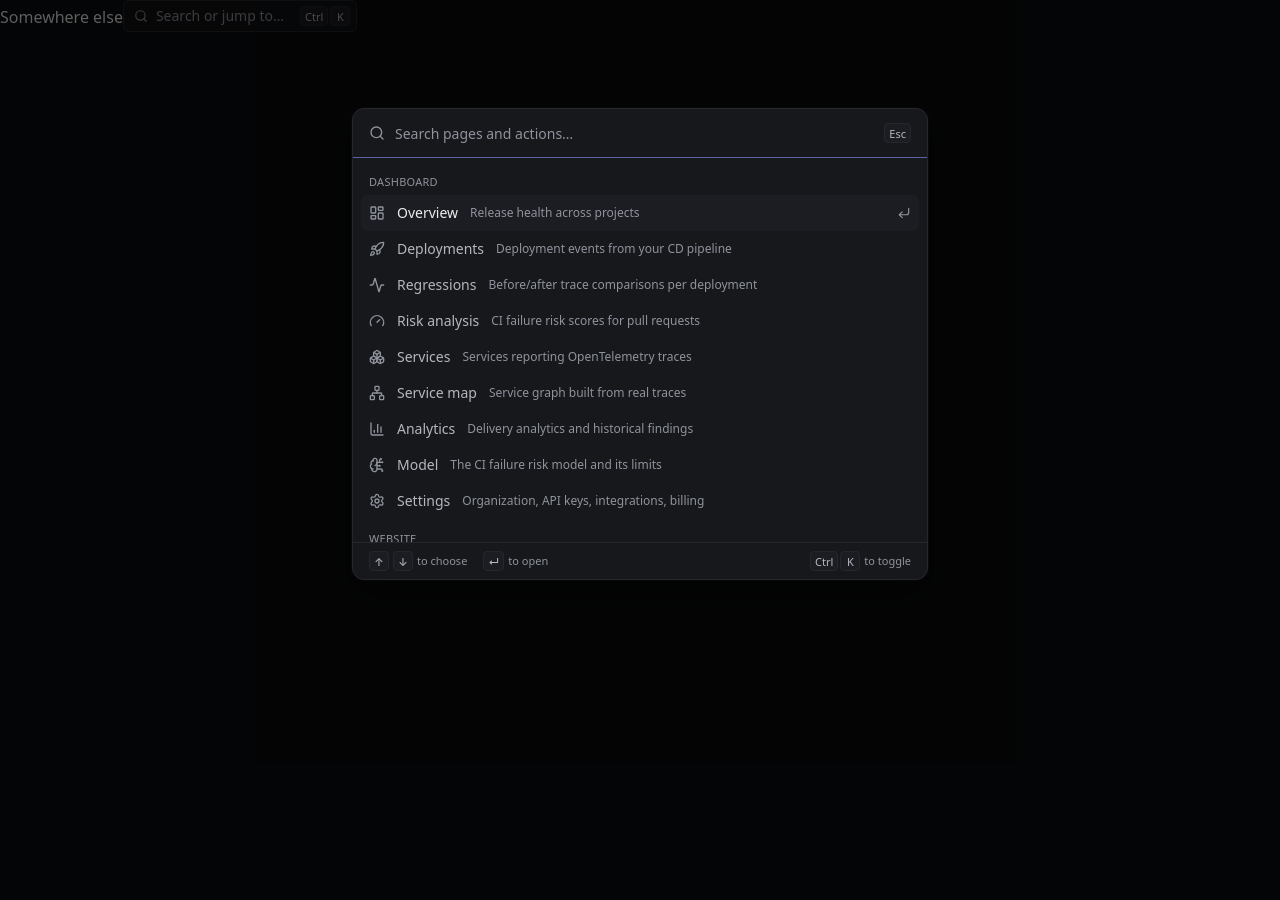
Test case: command menu › says when nothing matches
Type "zzzz-nothing" into the dropdown at [635, 133], box [395,109,874,157]
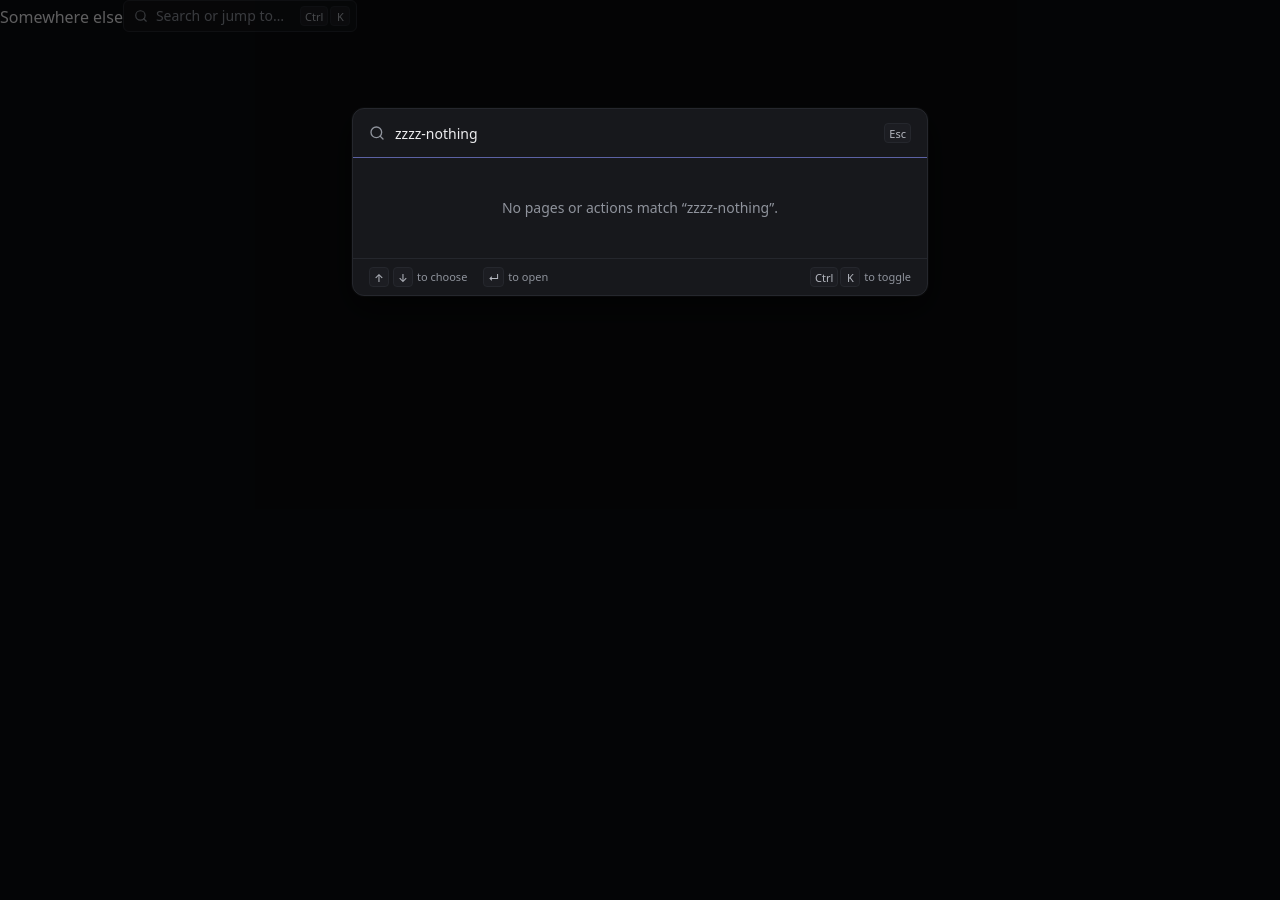
expect no options are shown: met
expect the text "No pages or actions match “zzzz-nothing”." is shown: met, box [502,198,778,217]
